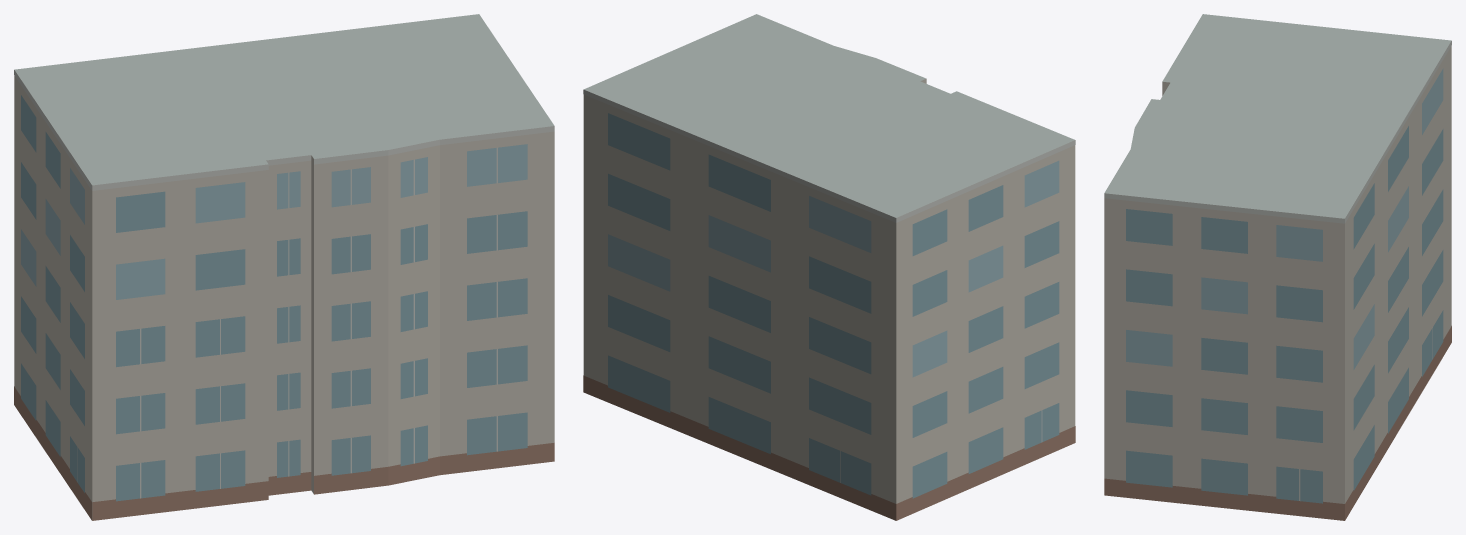
File: survey-upis-32913421.glb
3 views of the same model, side by side, from view 1: azimuth 30°, elevation 25°; view 2: azimuth 150°, elevation 25°; view 3: azimuth 270°, elevation 25° (orthographic). The views are drawn at different scales.
Visible parts, largest first — view 1: survey-upis-32913421.tmp; view 2: survey-upis-32913421.tmp; view 3: survey-upis-32913421.tmp.
Boxes of the visible parts, left/top/right/bottom form: survey-upis-32913421.tmp: left=14, top=14, right=554, bottom=520; survey-upis-32913421.tmp: left=583, top=14, right=1075, bottom=520; survey-upis-32913421.tmp: left=1104, top=14, right=1451, bottom=520.
Size of the model in its own units: 21.67 by 14.9 by 15.54.
